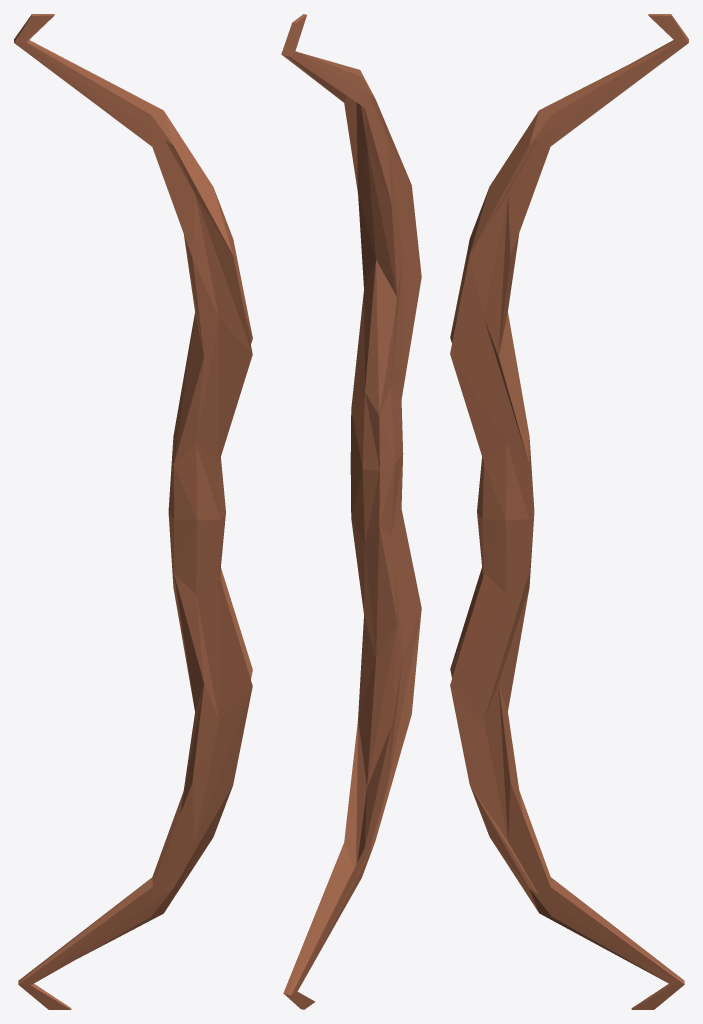
The model's file is MapleShortbow.glb.
3 views of the same model, side by side, from view 1: azimuth 90°, elevation 25°; view 2: azimuth 150°, elevation 25°; view 3: azimuth 270°, elevation 25° (orthographic).
Visible parts, largest first — view 1: EQ_MapleShortbow; view 2: EQ_MapleShortbow; view 3: EQ_MapleShortbow.
Boxes of the visible parts, <box> form: EQ_MapleShortbow: <box>14,14,252,1009</box>; EQ_MapleShortbow: <box>281,14,421,1009</box>; EQ_MapleShortbow: <box>450,14,688,1009</box>.
Size of the model in its own units: 0.0393 by 1.03 by 0.2245.
